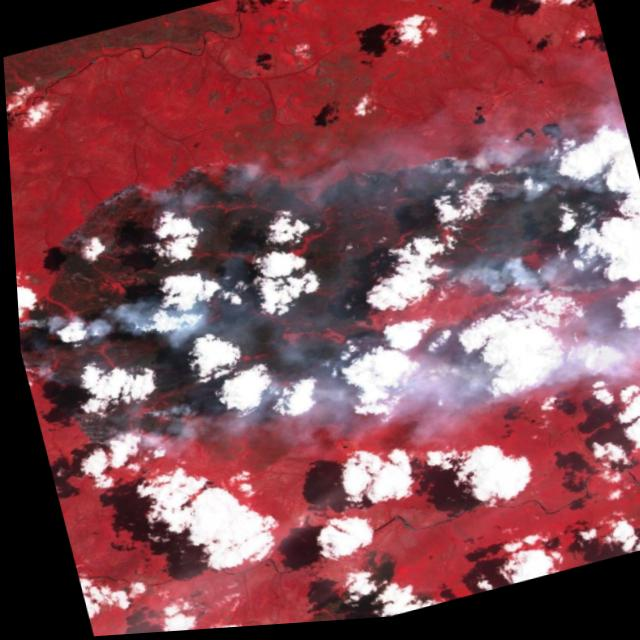fire: (4, 59, 640, 511)
